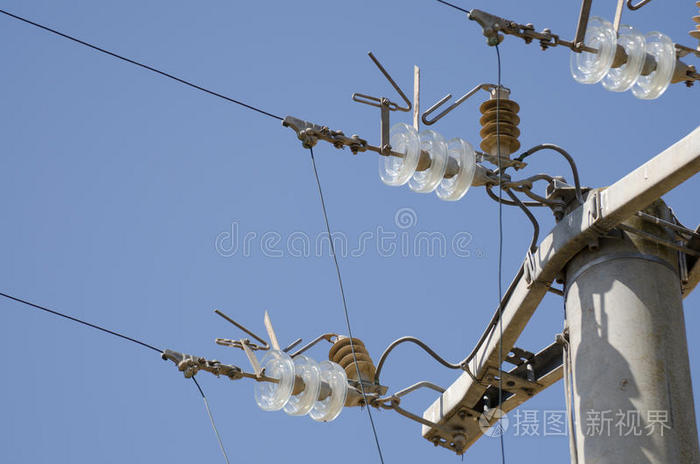insulator: (570, 17, 678, 99), (376, 123, 475, 201), (254, 349, 345, 423), (329, 338, 377, 383), (480, 100, 524, 147)
